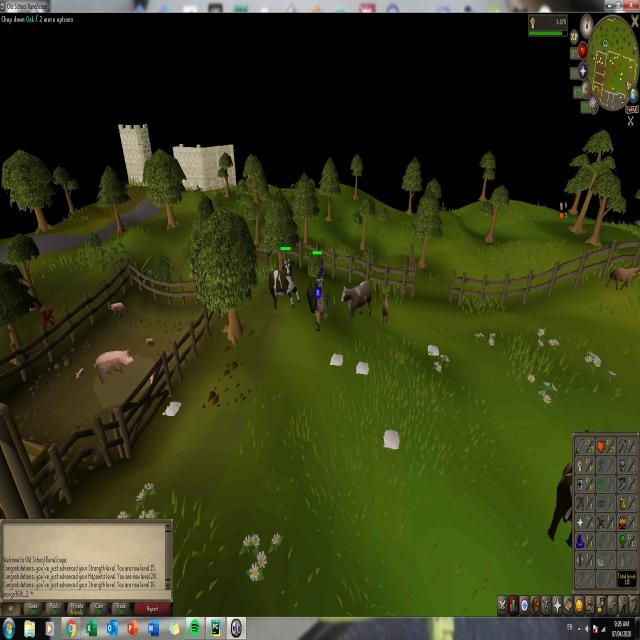cow: (547, 452, 572, 550), (341, 274, 373, 329), (266, 260, 300, 310), (606, 261, 638, 294), (381, 292, 389, 325)
player: (313, 264, 325, 332)
